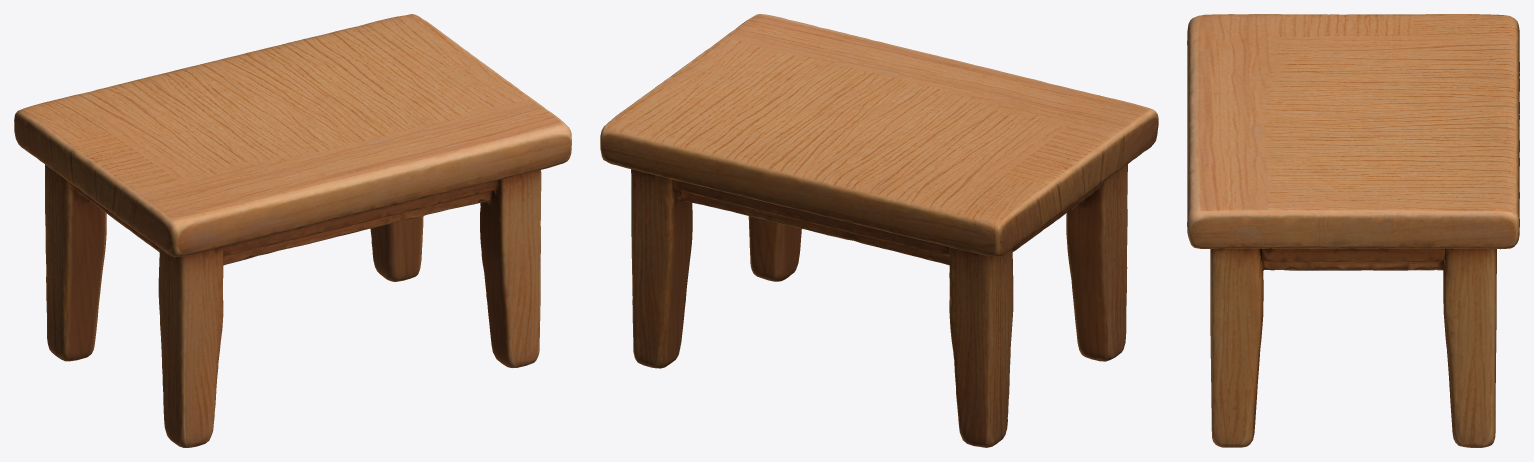
File: Before_Table.fbx
The picture shows the model from 3 angles, left to right: view 1: azimuth 30°, elevation 25°; view 2: azimuth 150°, elevation 25°; view 3: azimuth 270°, elevation 25°; orthographic projection. The views are drawn at different scales.
Visible parts, largest first — view 1: SRC_TABLE_Main; view 2: SRC_TABLE_Main; view 3: SRC_TABLE_Main.
Part boxes in pixels (bbox=[...]): SRC_TABLE_Main: bbox=[14, 14, 571, 447]; SRC_TABLE_Main: bbox=[600, 14, 1158, 447]; SRC_TABLE_Main: bbox=[1187, 14, 1519, 447].
Size of the model in its own units: 0.9961 by 0.5768 by 0.6967.
1 material, 1 textured.
